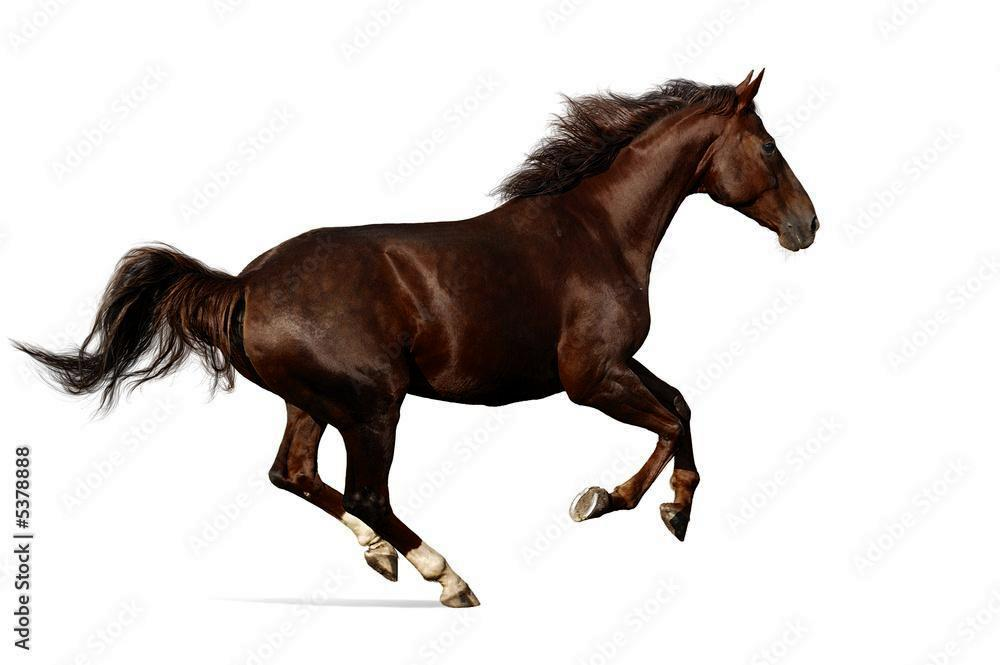horse: (0, 59, 823, 613)
